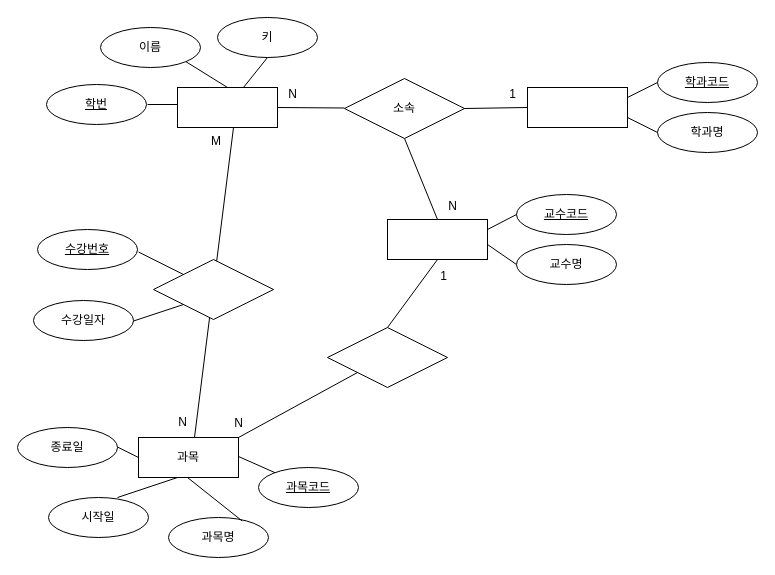
The diagram is 775 pixels wide and 575 high, and some of its shapes have lost their labels. Here are the shapes that lost their labels. From the top down, the centre of each, then its label:
point (227, 107): 학생
point (577, 107): 학과
point (437, 239): 교수
point (213, 289): 수강
point (387, 357): 강의
